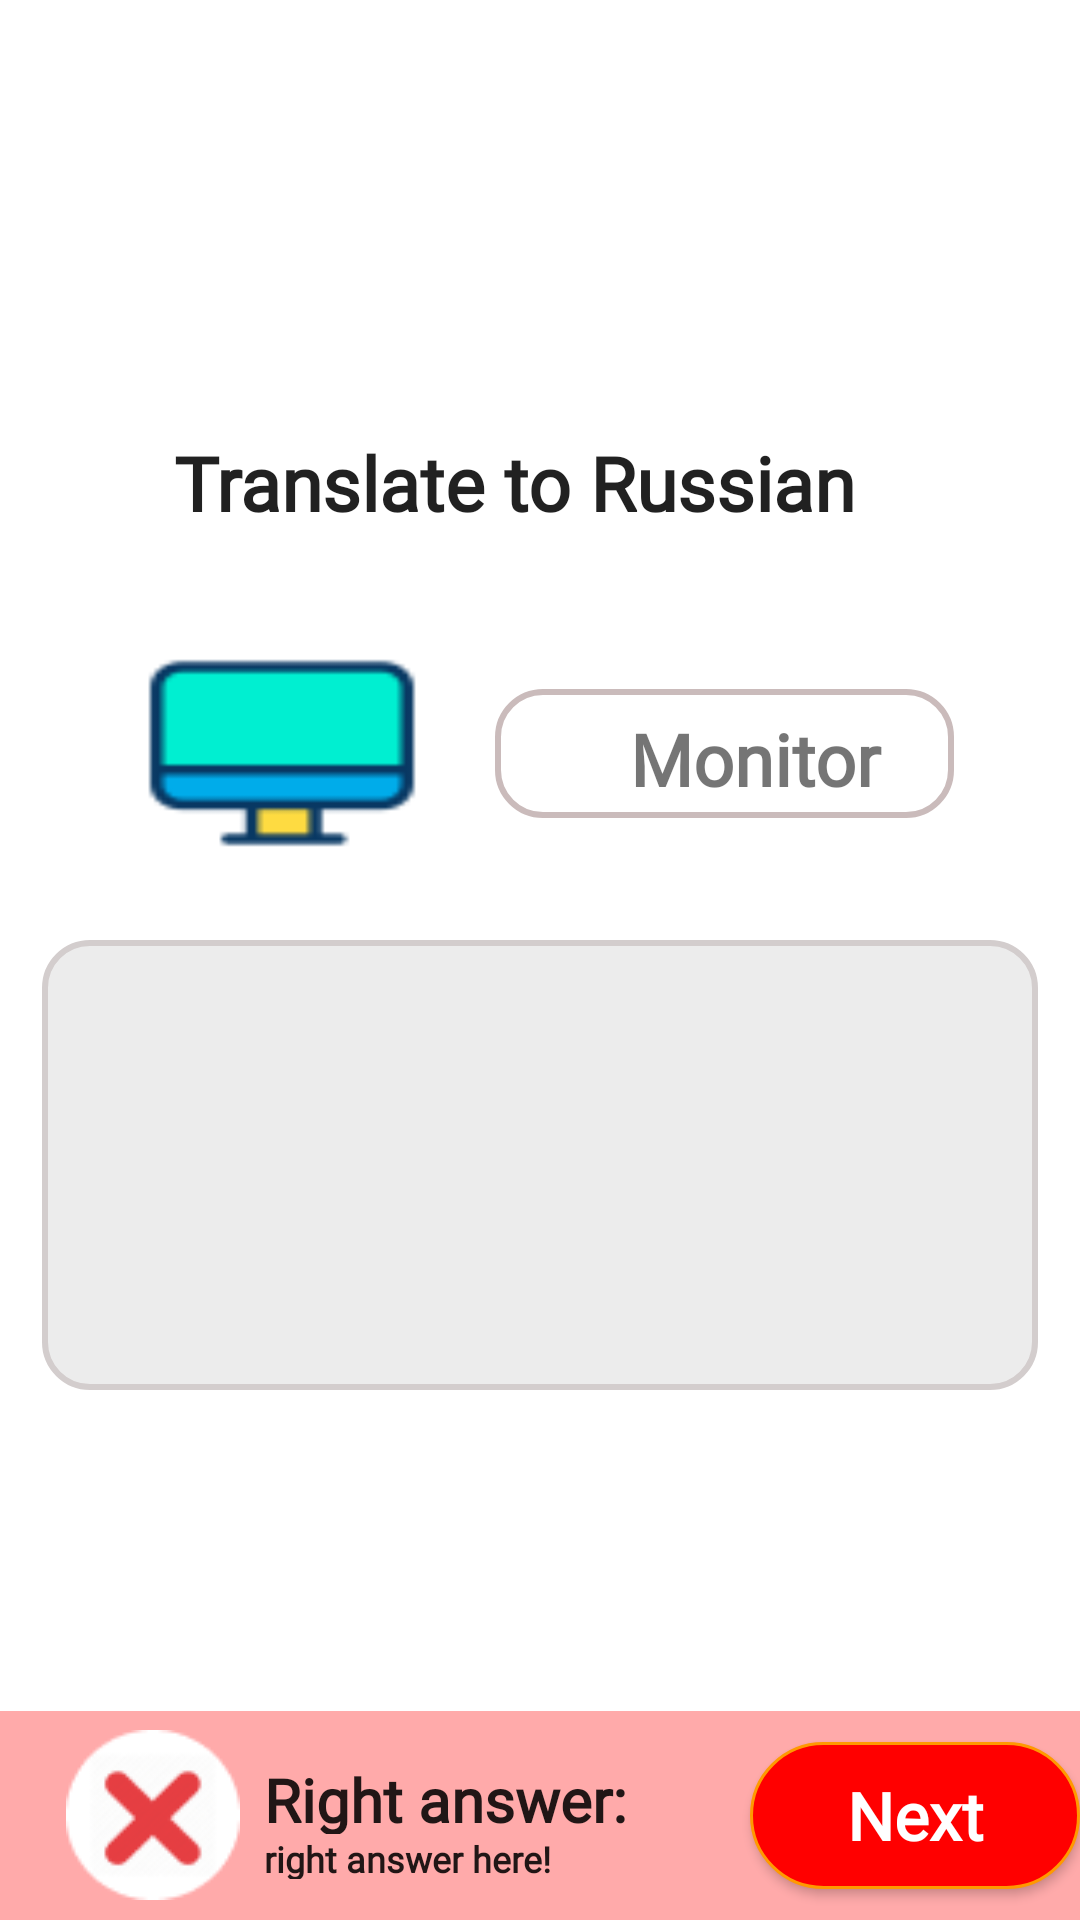

Point at icon controls on the screen. Image size 1080 x 1920, points as (x,y).
monitor: (282,753)
wrongg: (153,1815)
